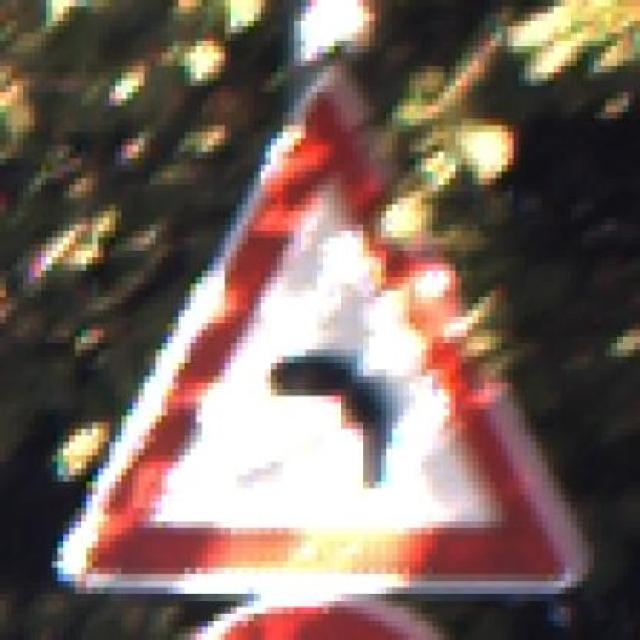Dangerous Left Curve Ahead: (46, 59, 588, 606)
